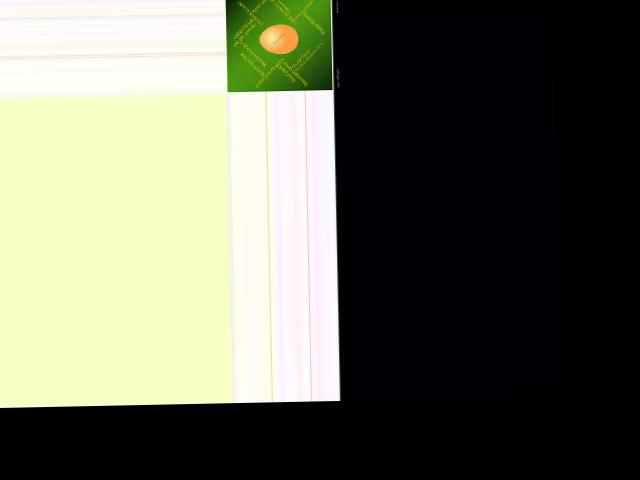egg: (259, 23, 298, 54)
